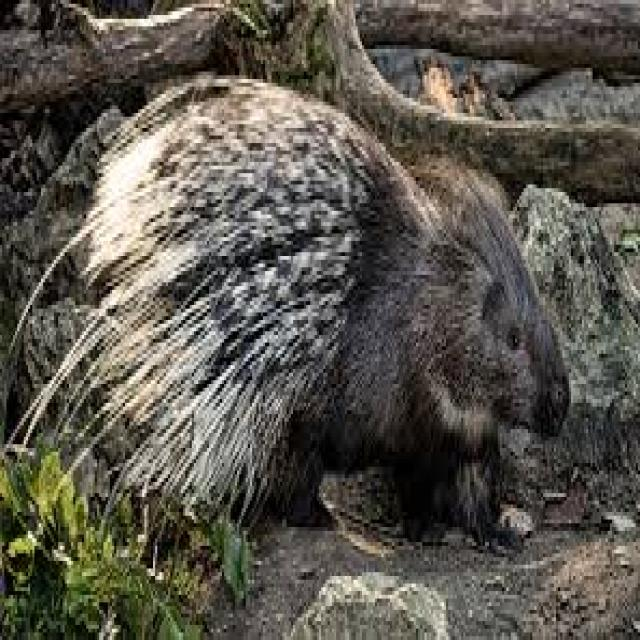Porcupine: (102, 88, 575, 543)
